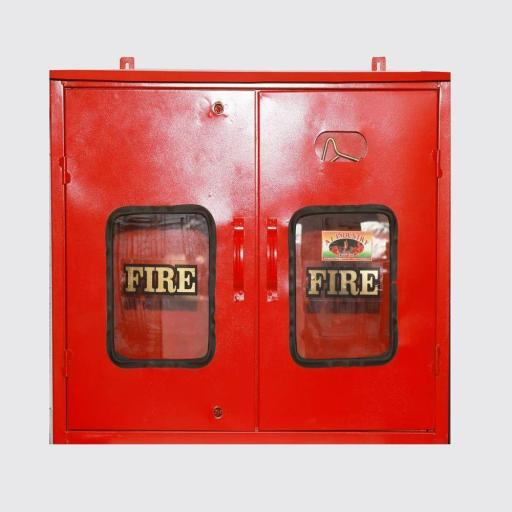fire_hose: (40, 50, 459, 458)
